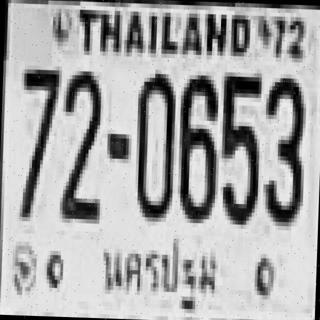N00: (132, 69, 175, 218)
N02: (59, 66, 102, 220)
N03: (260, 73, 303, 222)
N05: (218, 72, 260, 221)
N06: (174, 70, 216, 219)
N07: (16, 65, 59, 218)
P28: (96, 231, 219, 312)
